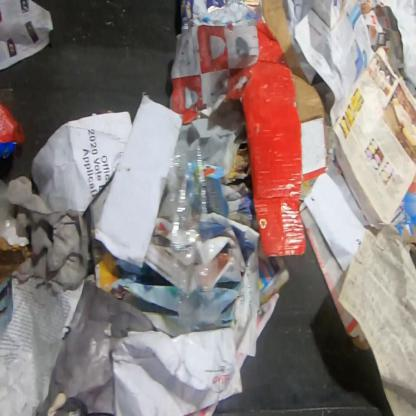cardboard: (242, 0, 327, 259)
soft_plastic: (44, 280, 157, 415), (166, 145, 222, 334)
